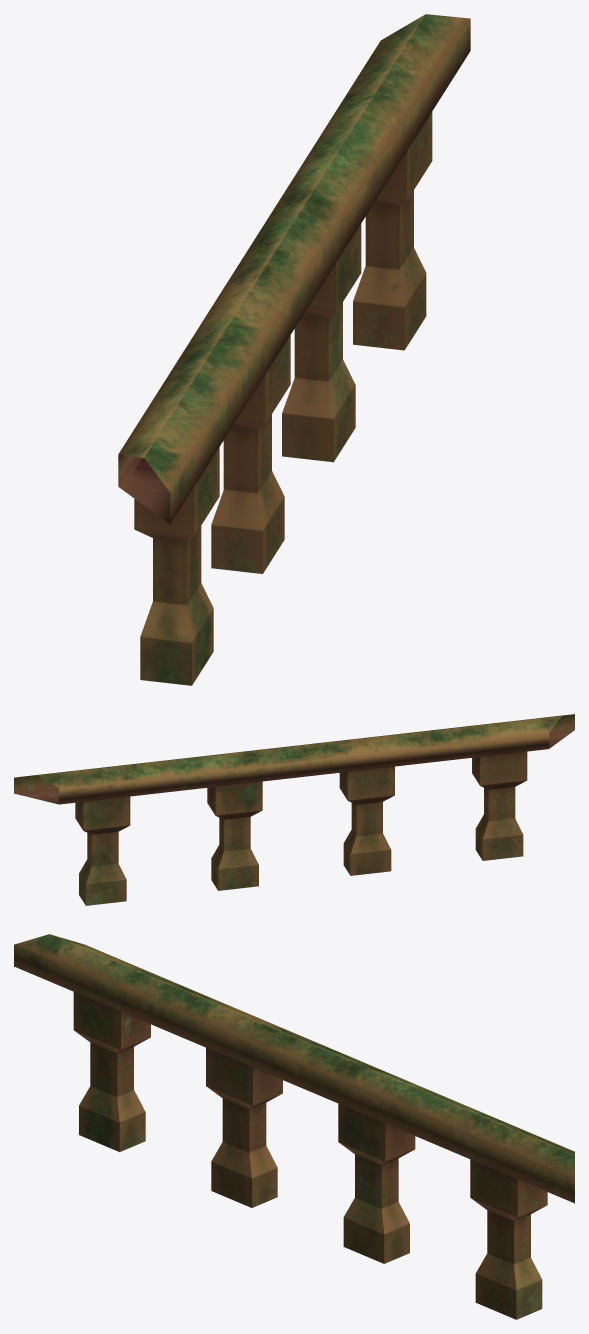
File: VallaDiagonal.fbx
3 renders of one model, top to bottom at view 1: azimuth 30°, elevation 25°; view 2: azimuth 150°, elevation 25°; view 3: azimuth 270°, elevation 25°, orthographic. The views are drawn at different scales.
Visible parts, largest first — view 1: Cube.113; view 2: Cube.113; view 3: Cube.113.
Part boxes in pixels (x1,y1,x2,y2): Cube.113: (118,14,470,685); Cube.113: (14,714,574,905); Cube.113: (14,934,574,1319).
Bounding box in the file's own units: 4 × 1.4 × 4.
